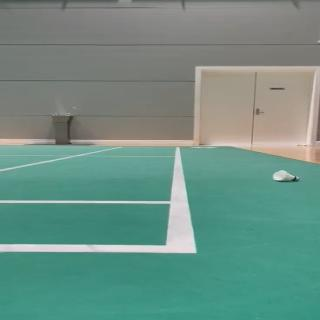Shuttle: (273, 170, 299, 182)
